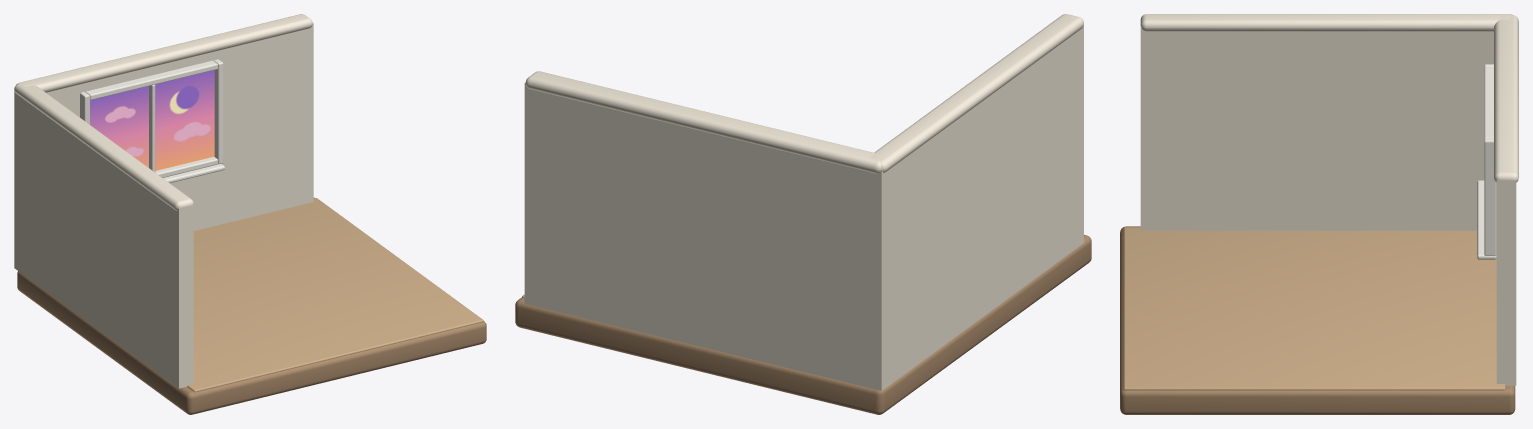
Rendered from room_shell.glb.
The picture shows the model from 3 angles, left to right: view 1: azimuth 30°, elevation 25°; view 2: azimuth 150°, elevation 25°; view 3: azimuth 270°, elevation 25°; orthographic projection. The views are drawn at different scales.
Visible parts, largest first — view 1: room_junior_Wall, room_junior_Floor, room_junior_Slab, room_junior_SkyTex, room_junior_Frame; view 2: room_junior_Wall, room_junior_Slab; view 3: room_junior_Wall, room_junior_Floor, room_junior_Slab, room_junior_Frame.
Boxes of the visible parts, x1=… form: room_junior_Wall: x1=14, y1=14, x2=313, y2=388; room_junior_Floor: x1=187, y1=198, x2=483, y2=392; room_junior_Slab: x1=17, y1=197, x2=486, y2=414; room_junior_SkyTex: x1=90, y1=70, x2=214, y2=170; room_junior_Frame: x1=80, y1=59, x2=224, y2=183; room_junior_Wall: x1=524, y1=14, x2=1083, y2=390; room_junior_Slab: x1=515, y1=234, x2=1091, y2=414; room_junior_Wall: x1=1140, y1=14, x2=1518, y2=385; room_junior_Floor: x1=1123, y1=227, x2=1505, y2=390; room_junior_Slab: x1=1120, y1=226, x2=1515, y2=414; room_junior_Frame: x1=1477, y1=64, x2=1496, y2=259.
Bounding box in the file's own units: 4.49 × 2.94 × 4.49.
5 materials, 1 textured.
